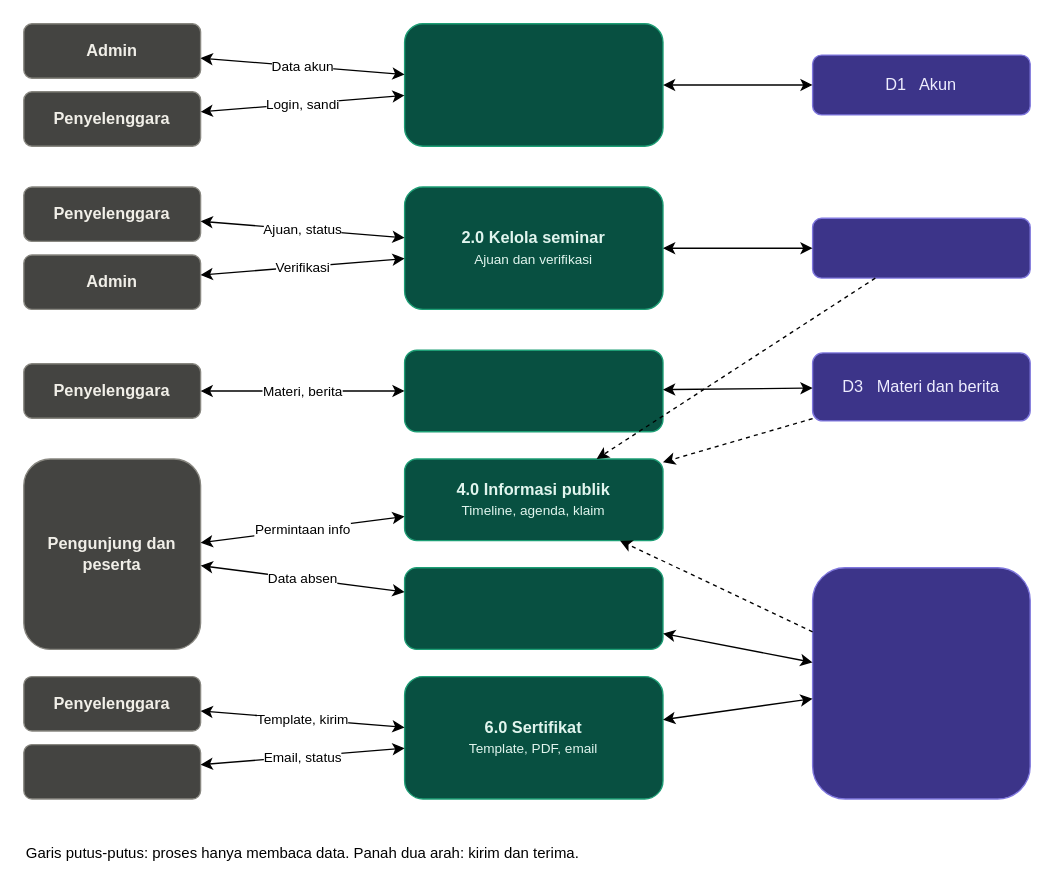
Some shapes in this 1054 by 891 pixel diagram are drawn without their labels. The shapes that lost their labels are listed below. From the top down, each one's centre as x and y in pixels, then its label:
At pixel 533 84: "1.0 Kelola akun dan login".
At pixel 920 247: "D2 Seminar dan dokumen".
At pixel 533 390: "3.0 Materi, berita Unggah dan posting".
At pixel 533 607: "5.0 Absensi peserta Validasi dan catat".
At pixel 920 682: "D4 Kehadiran dan sertifikat".
At pixel 111 771: "Layanan email".
